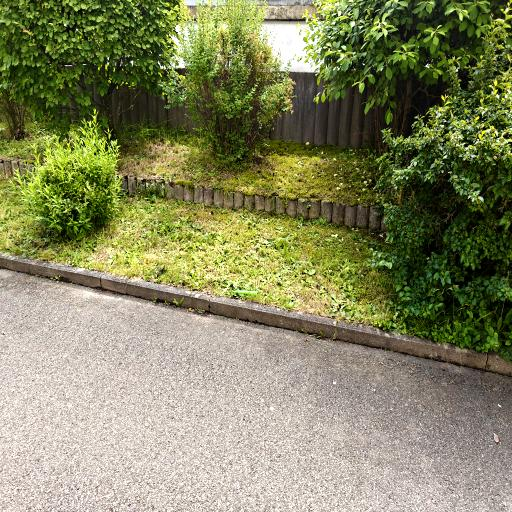Probe-Detection: (234, 290, 257, 296)
